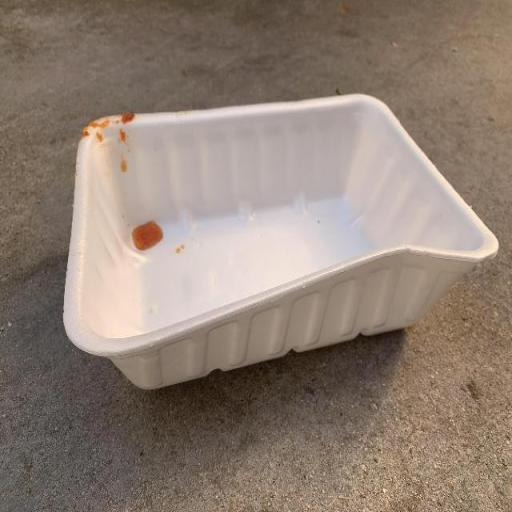styrofoam: (64, 94, 498, 387)
